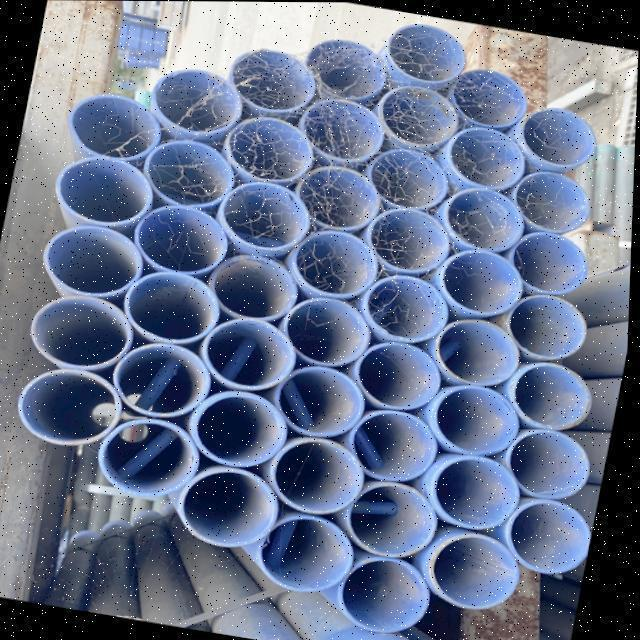pipe: (413, 518, 538, 621), (9, 355, 135, 457), (170, 454, 291, 557), (22, 286, 147, 380), (92, 411, 212, 506), (114, 259, 233, 353), (33, 215, 155, 306), (258, 428, 374, 523), (104, 334, 222, 427), (192, 305, 308, 399), (182, 382, 298, 475), (339, 470, 453, 564), (493, 487, 602, 585), (122, 193, 241, 282), (328, 548, 442, 639), (252, 510, 367, 600), (45, 146, 162, 234), (421, 444, 533, 535), (137, 59, 254, 146), (422, 375, 535, 465), (267, 355, 377, 447), (134, 130, 247, 218), (211, 172, 323, 258), (500, 350, 606, 440), (344, 401, 451, 490), (197, 245, 308, 329), (277, 287, 383, 374), (497, 421, 603, 508), (287, 87, 395, 171), (425, 242, 534, 325), (220, 40, 329, 122), (216, 107, 323, 190), (58, 86, 169, 166), (421, 310, 530, 391), (285, 219, 387, 305), (348, 334, 453, 417), (354, 266, 459, 349), (359, 198, 458, 284), (289, 158, 390, 241), (370, 76, 471, 157), (500, 285, 599, 367), (370, 15, 475, 92), (505, 96, 606, 176), (435, 178, 536, 258), (434, 179, 532, 259), (434, 118, 534, 195), (503, 163, 604, 239), (297, 32, 397, 108), (505, 223, 600, 302), (361, 141, 458, 217), (440, 58, 534, 135)
